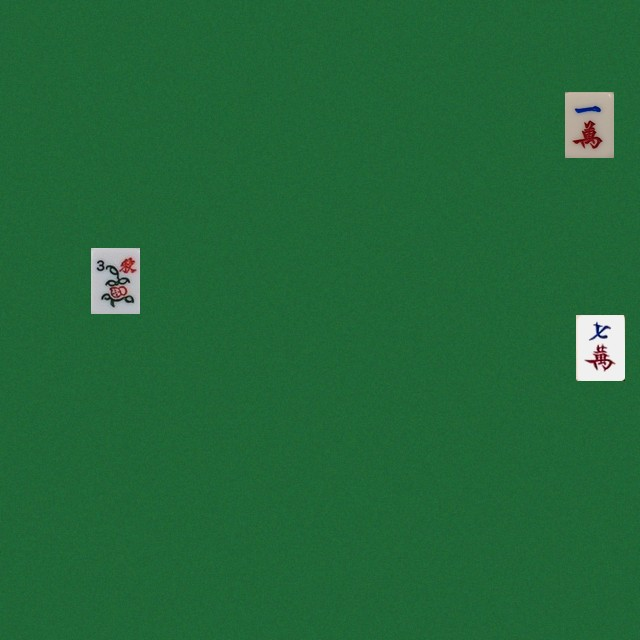tile: (90, 247, 139, 313), (564, 91, 613, 157), (575, 314, 624, 380)
